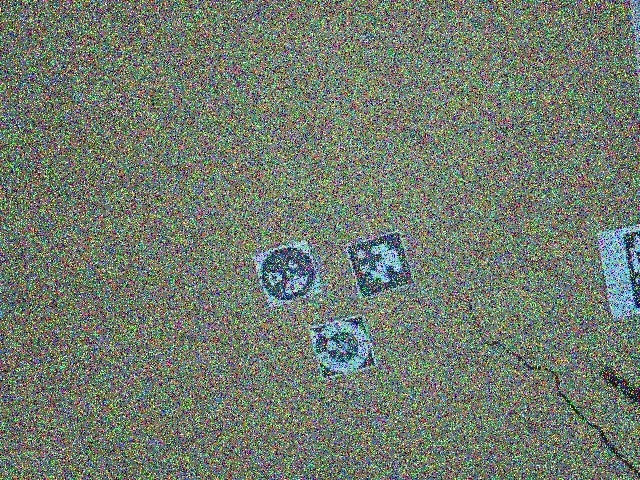landing-zone: (311, 313, 381, 383)
